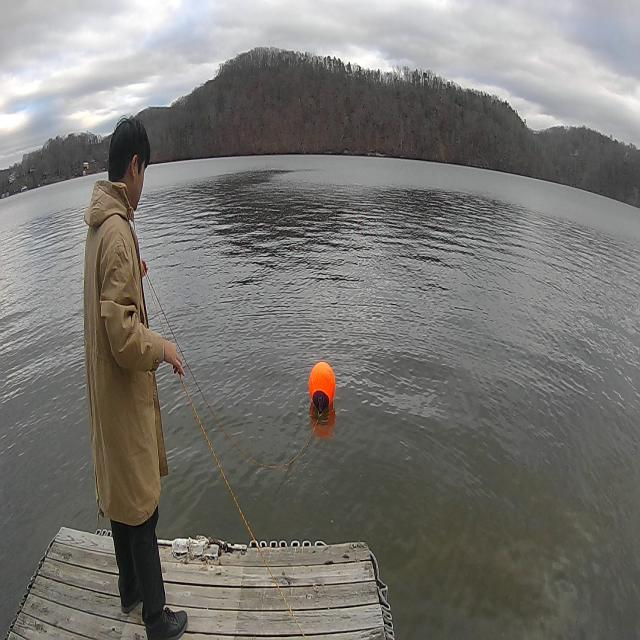Buoy: (305, 352, 340, 419)
